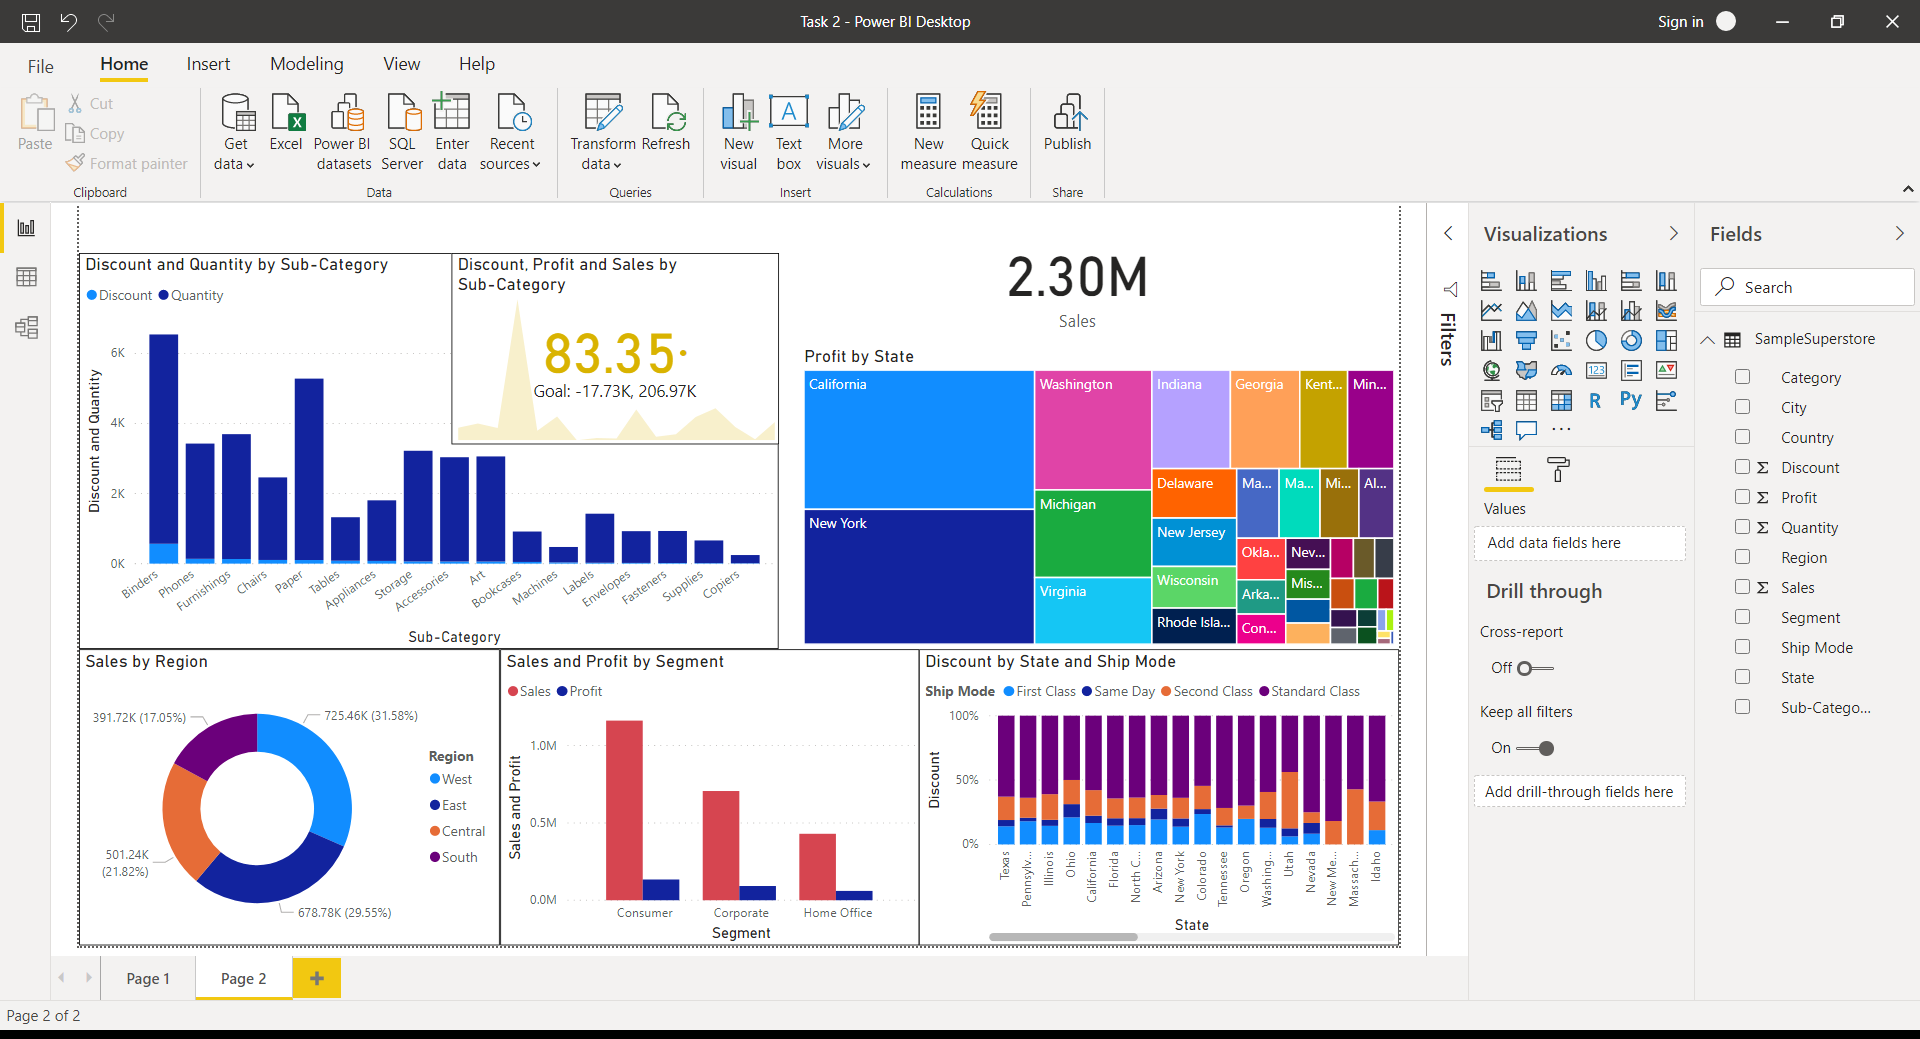

What the dashboard file says about the page in this screenshot:
{"tool":"powerbi","page":{"name":"Page 2","canvas":[1280,720],"ordinal":1},"visuals":[{"type":"hundredPercentStackedColumnChart","fields":{"Category":["SampleSuperstore.State","SampleSuperstore.Segment"],"Series":["SampleSuperstore.Ship Mode"],"Y":["Sum(SampleSuperstore.Discount)"]},"box":[814.4,432.6,465.6,287],"z":0},{"type":"donutChart","fields":{"Y":["Sum(SampleSuperstore.Sales)"],"Category":["SampleSuperstore.Region"]},"box":[0,432.6,407.9,287],"z":1000},{"type":"lineStackedColumnComboChart","fields":{"Category":["SampleSuperstore.Sub-Category","SampleSuperstore.Segment"],"Y":["Sum(SampleSuperstore.Discount)","Sum(SampleSuperstore.Quantity)"]},"box":[0,48.5,678.8,384.2],"z":2000},{"type":"treemap","fields":{"Group":["SampleSuperstore.State"],"Values":["Sum(SampleSuperstore.Profit)"]},"box":[698.2,138.2,581.8,294.5],"z":4000},{"type":"kpi","fields":{"Goal":["Sum(SampleSuperstore.Profit)","Sum(SampleSuperstore.Sales)"],"Indicator":["Sum(SampleSuperstore.Discount)"],"TrendLine":["SampleSuperstore.Sub-Category"]},"box":[361.2,48.5,317.6,185.5],"z":5000},{"type":"lineClusteredColumnComboChart","fields":{"Category":["SampleSuperstore.Segment","SampleSuperstore.City","SampleSuperstore.State"],"Y":["Sum(SampleSuperstore.Sales)","Sum(SampleSuperstore.Profit)"]},"box":[408.5,432.7,406.1,287.3],"z":5001},{"type":"card","fields":{"Values":["Sum(SampleSuperstore.Sales)"]},"box":[823,0,290.9,150.3],"z":5002}]}

Visuals, with their boxes on the page's 1280x720 design canvas (x1, y1, x2, y2). These are canvas units, not pixel positions in the 1920x1039 screenshot, which may show the page scaled, cropped or inside an application window:
hundredPercentStackedColumnChart - SampleSuperstore.State x SampleSuperstore.Segment: pyautogui.locateOnScreen(814, 433, 1280, 720)
donutChart - Sum(SampleSuperstore.Sales) x SampleSuperstore.Region: pyautogui.locateOnScreen(0, 433, 408, 720)
lineStackedColumnComboChart - SampleSuperstore.Sub-Category x SampleSuperstore.Segment: pyautogui.locateOnScreen(0, 48, 679, 433)
treemap - SampleSuperstore.State x Sum(SampleSuperstore.Profit): pyautogui.locateOnScreen(698, 138, 1280, 433)
kpi - Sum(SampleSuperstore.Profit) x Sum(SampleSuperstore.Sales): pyautogui.locateOnScreen(361, 48, 679, 234)
lineClusteredColumnComboChart - SampleSuperstore.Segment x SampleSuperstore.City: pyautogui.locateOnScreen(408, 433, 815, 720)
card - Sum(SampleSuperstore.Sales): pyautogui.locateOnScreen(823, 0, 1114, 150)
